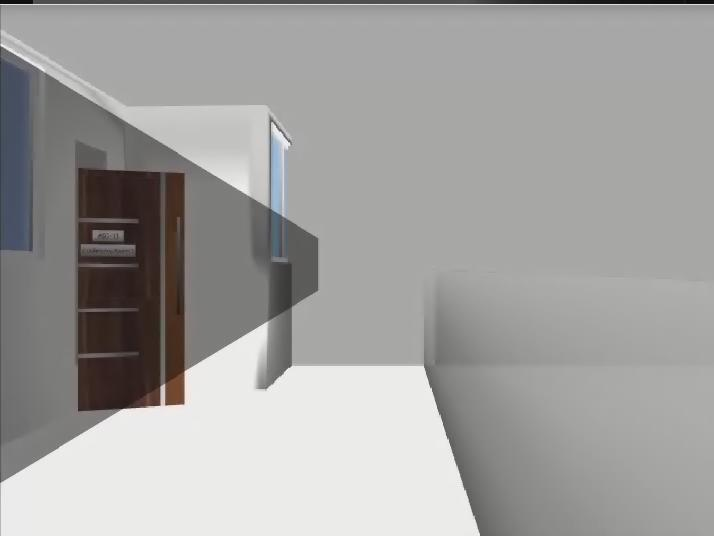door: (78, 169, 185, 412)
